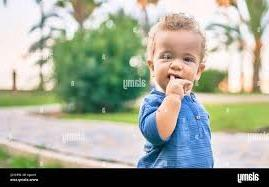Human: (129, 10, 215, 172)
